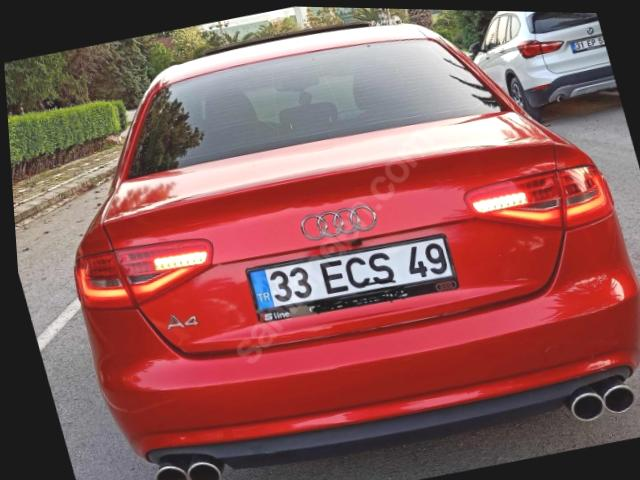plaka: (247, 235, 454, 313)
